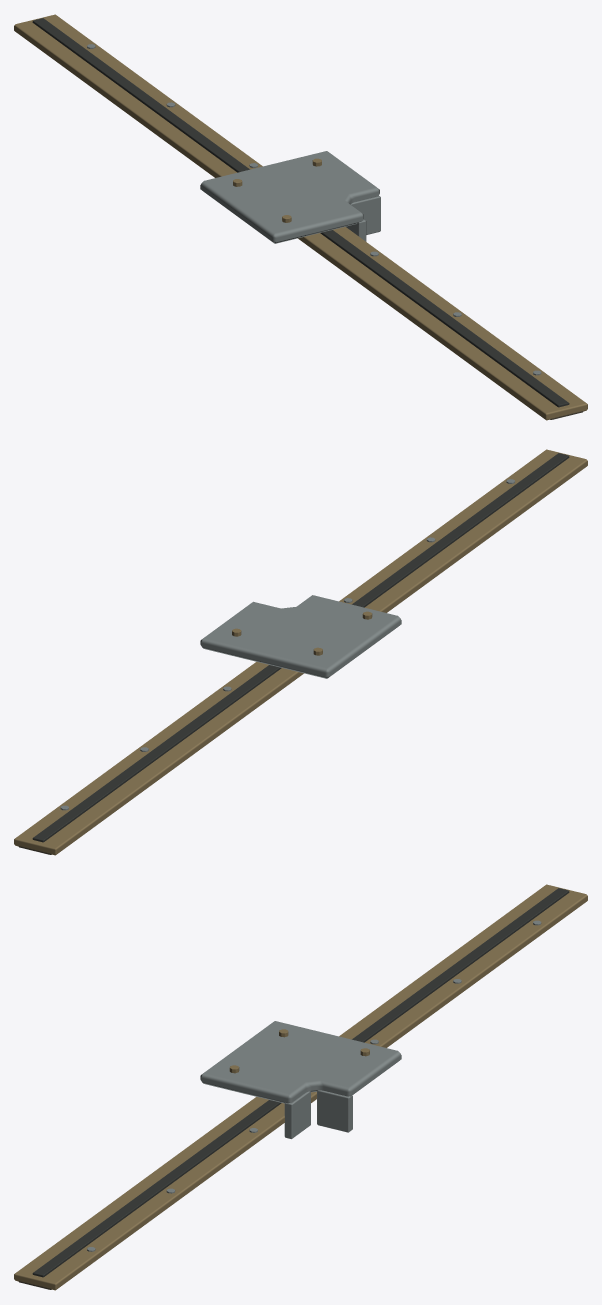
The model's file is fit-rc32.glb.
The picture shows the model from 3 angles, top to bottom: view 1: azimuth 30°, elevation 25°; view 2: azimuth 150°, elevation 25°; view 3: azimuth 330°, elevation 25°; orthographic projection.
Visible parts, largest first — view 1: AnnexRecessBar / Muted gilt bronze, RoofDeckInsideCorner / Weathered zinc, AnnexRecessBar / Textured seal; view 2: AnnexRecessBar / Muted gilt bronze, RoofDeckInsideCorner / Weathered zinc, AnnexRecessBar / Textured seal; view 3: AnnexRecessBar / Muted gilt bronze, RoofDeckInsideCorner / Weathered zinc, AnnexRecessBar / Textured seal.
Part boxes in pixels (bbox=[...]): AnnexRecessBar / Muted gilt bronze: bbox=[14, 14, 587, 420]; RoofDeckInsideCorner / Weathered zinc: bbox=[200, 151, 380, 243]; AnnexRecessBar / Textured seal: bbox=[32, 18, 569, 407]; AnnexRecessBar / Muted gilt bronze: bbox=[14, 449, 587, 855]; RoofDeckInsideCorner / Weathered zinc: bbox=[200, 595, 401, 678]; AnnexRecessBar / Textured seal: bbox=[32, 453, 569, 842]; AnnexRecessBar / Muted gilt bronze: bbox=[14, 884, 587, 1290]; RoofDeckInsideCorner / Weathered zinc: bbox=[200, 1021, 401, 1139]; AnnexRecessBar / Textured seal: bbox=[32, 888, 569, 1277].
Bounding box in the file's own units: 0.336 × 0.118 × 2.38.
